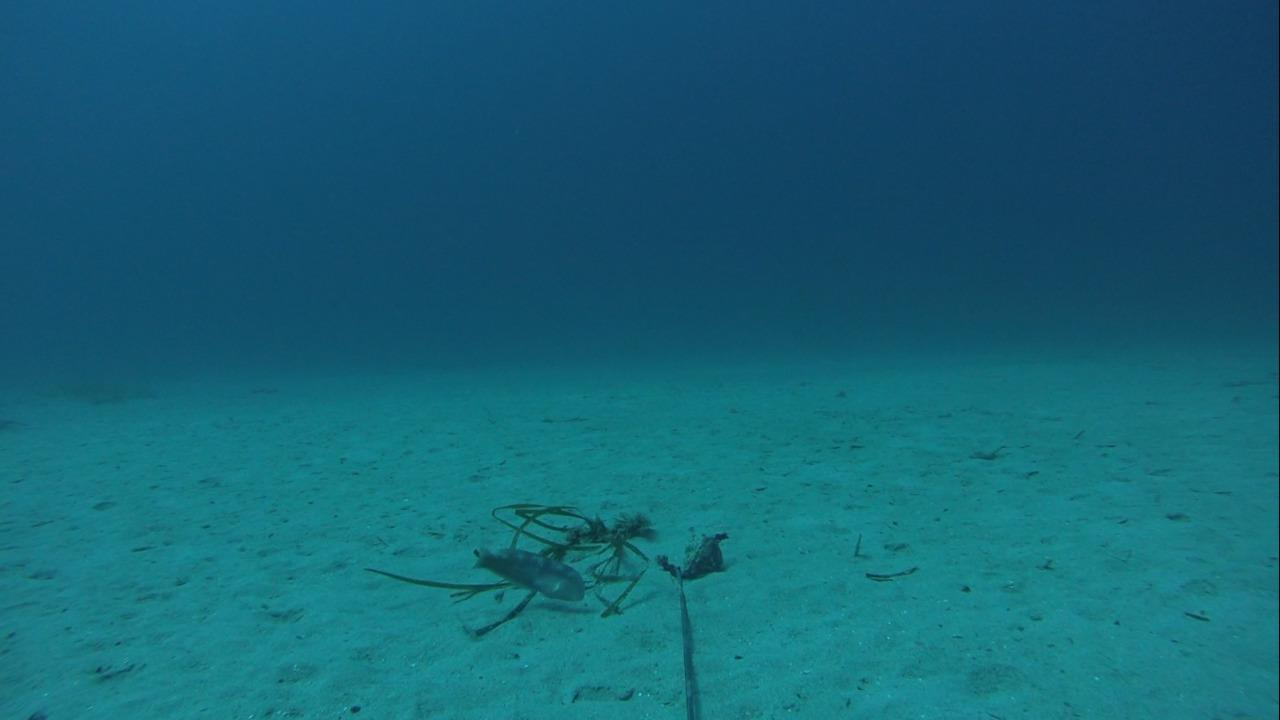raor: (459, 540, 591, 606)
